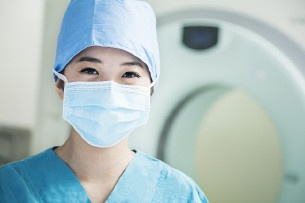Mask: (59, 46, 158, 145)
